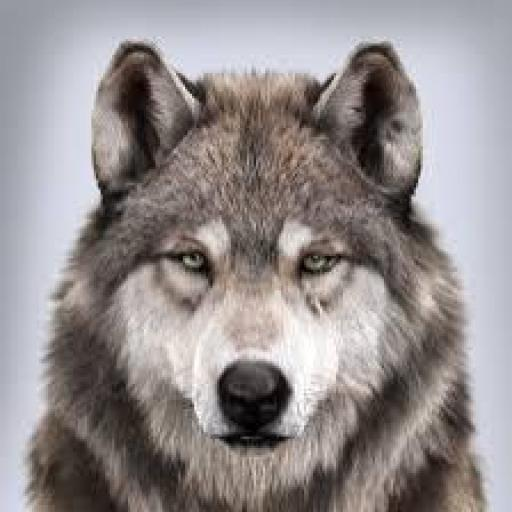wolf: (7, 27, 503, 512)
